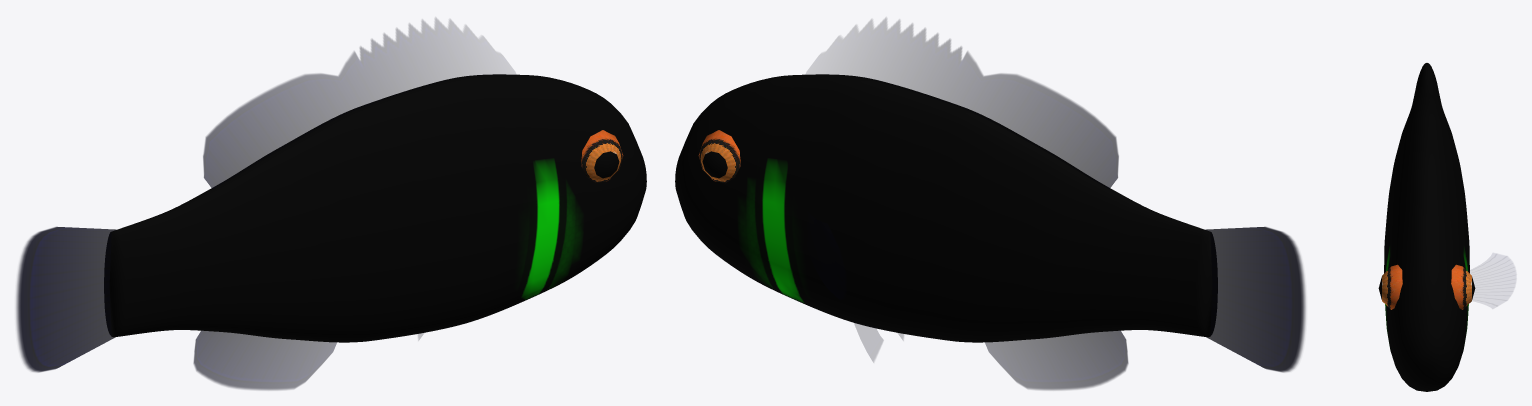
File: clown_darwin.glb
The picture shows the model from 3 angles, left to right: view 1: azimuth 30°, elevation 25°; view 2: azimuth 150°, elevation 25°; view 3: azimuth 270°, elevation 25°; orthographic projection. The views are drawn at different scales.
Visible parts, largest first — view 1: Body, FinDorsal, FinCaudal, FinAnal, EyeR; view 2: Body, FinDorsal, FinCaudal, FinAnal, EyeL, FinPelvicL; view 3: Body, EyeL, EyeR, FinPectoralL.
Boxes of the visible parts, bbox=[...] form: Body: bbox=[104, 74, 646, 342]; FinDorsal: bbox=[203, 18, 515, 188]; FinCaudal: bbox=[16, 227, 117, 372]; FinAnal: bbox=[193, 330, 336, 390]; EyeR: bbox=[581, 130, 623, 182]; Body: bbox=[675, 74, 1217, 342]; FinDorsal: bbox=[806, 18, 1118, 188]; FinCaudal: bbox=[1204, 227, 1305, 372]; FinAnal: bbox=[985, 330, 1128, 390]; EyeL: bbox=[698, 130, 740, 182]; FinPelvicL: bbox=[854, 322, 883, 362]; Body: bbox=[1384, 63, 1469, 391]; EyeL: bbox=[1451, 264, 1475, 309]; EyeR: bbox=[1378, 264, 1402, 309]; FinPectoralL: bbox=[1470, 254, 1515, 306].
Size of the model in its own units: 1 by 0.5195 by 0.2844.
4 materials, 3 textured.
